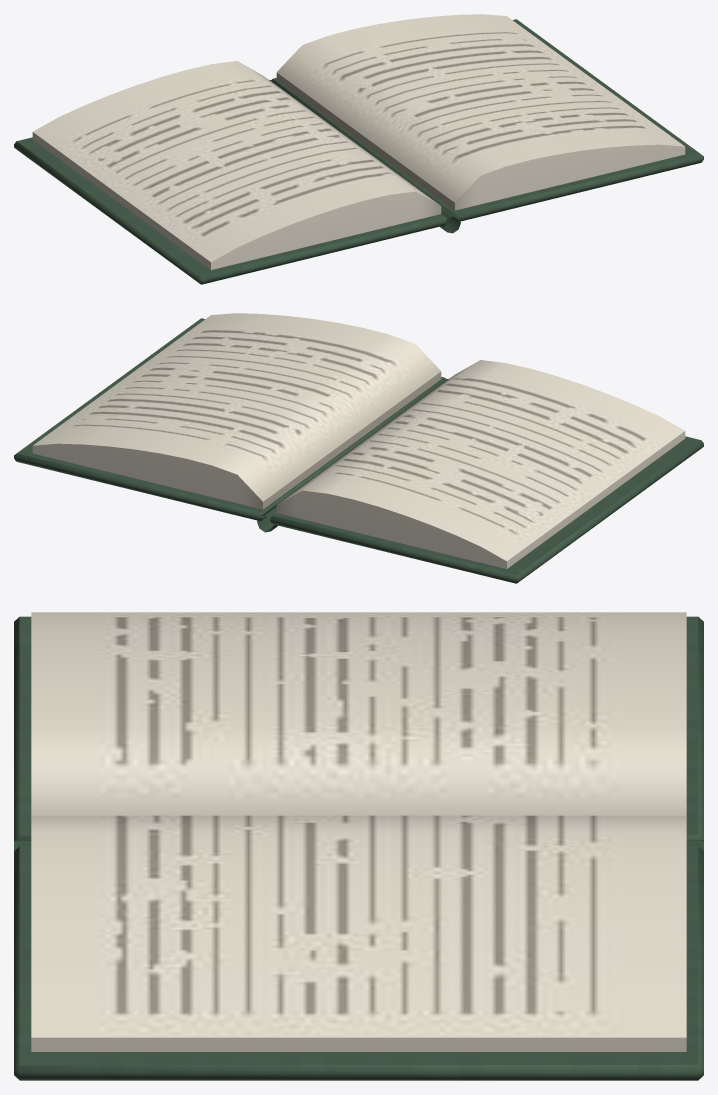
The model's file is study-book.glb.
3 renders of one model, top to bottom at view 1: azimuth 30°, elevation 25°; view 2: azimuth 150°, elevation 25°; view 3: azimuth 270°, elevation 25°, orthographic. The views are drawn at different scales.
Visible parts, largest first — view 1: study-book; view 2: study-book; view 3: study-book.
Part boxes in pixels (bbox=[...]): study-book: bbox=[14, 14, 703, 284]; study-book: bbox=[14, 313, 703, 583]; study-book: bbox=[14, 612, 703, 1080].
Bounding box in the file's own units: 0.746 × 0.0705 × 0.48.
Materials: 2 (2 with a texture image).
